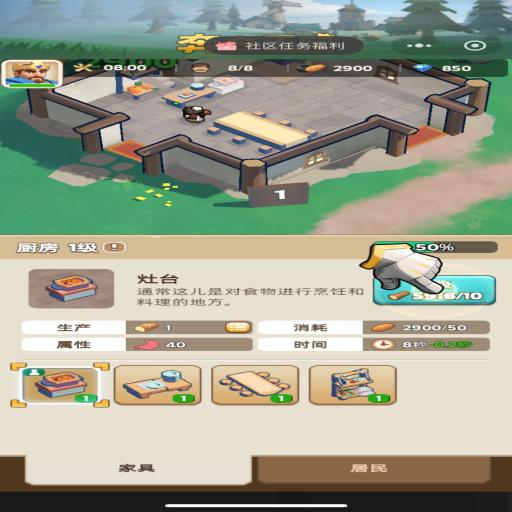newcomer_hand: (359, 242, 442, 294)
